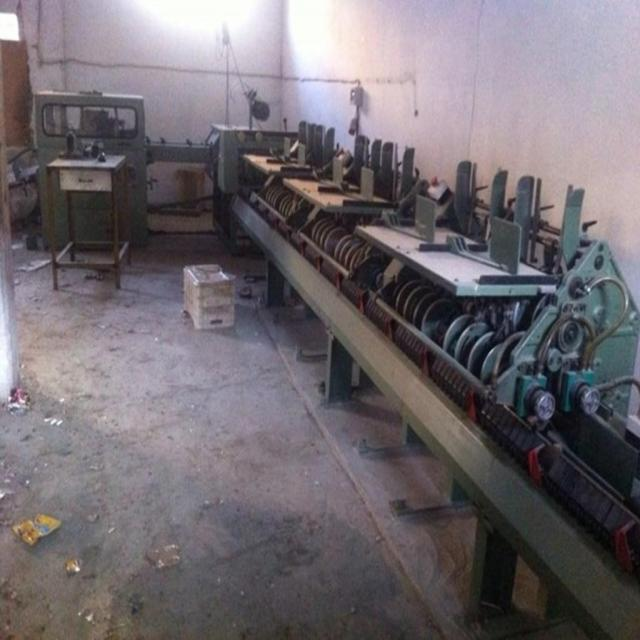table: (36, 138, 122, 262)
